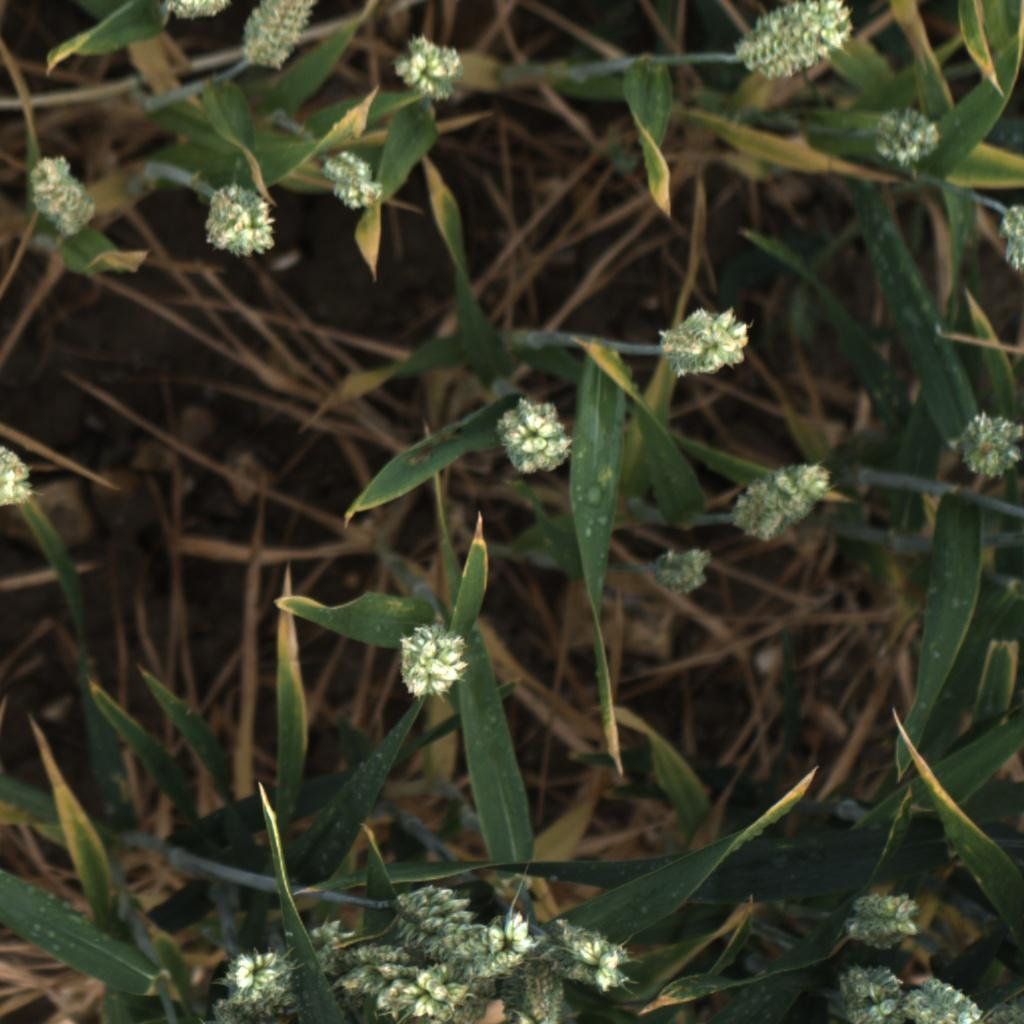0-0: (387, 880, 501, 976), (326, 937, 450, 1024), (732, 0, 853, 84), (532, 898, 635, 993), (729, 460, 829, 543), (654, 300, 756, 380), (447, 904, 542, 984), (220, 944, 312, 1023), (234, 0, 331, 72), (20, 151, 98, 240), (201, 179, 282, 264), (494, 394, 574, 478), (390, 621, 470, 703), (944, 406, 1024, 486), (498, 947, 577, 1024), (837, 883, 927, 950), (391, 27, 466, 107), (862, 104, 947, 171), (399, 963, 482, 1024), (317, 150, 394, 215), (899, 969, 987, 1024), (829, 964, 906, 1024), (299, 917, 359, 989), (652, 539, 716, 602), (196, 989, 282, 1024), (993, 194, 1024, 285), (0, 437, 34, 514), (161, 0, 236, 22)
